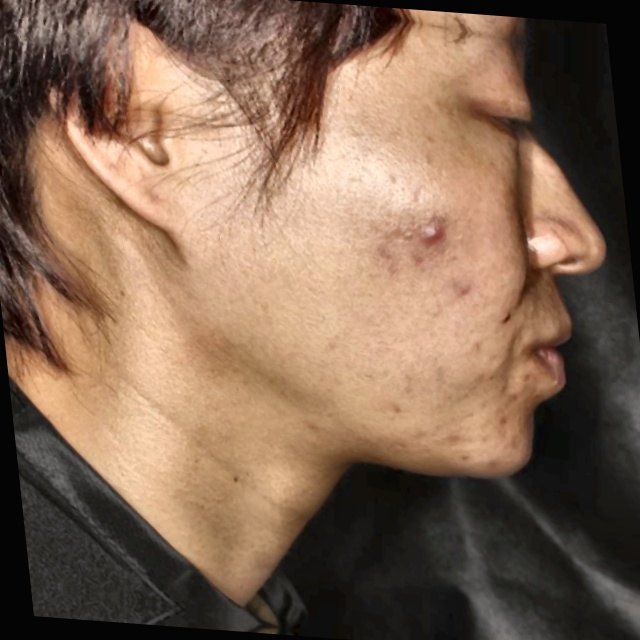comedone: (414, 212, 461, 254), (490, 302, 518, 332), (453, 274, 479, 303)
